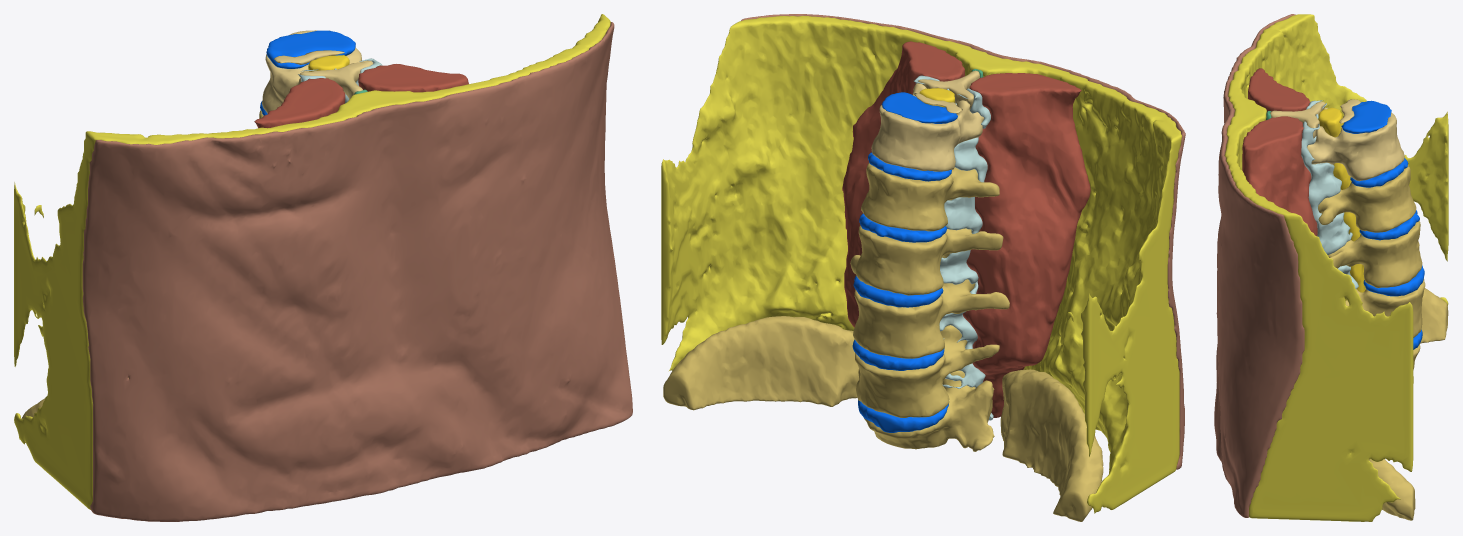
The model's file is LPanatomy2026.glb.
3 views of the same model, side by side, from view 1: azimuth 30°, elevation 25°; view 2: azimuth 150°, elevation 25°; view 3: azimuth 270°, elevation 25° (orthographic). The views are drawn at different scales.
Parts seen in each view (by area): view 1: SkinThin, fat, leftdeepbackmuscle, rightdeepbackmuscle, intervertebral_discs, T12vertebra, T11vertebra; view 2: fat, leftdeepbackmuscle, righthip, lefthip, intervertebral_discs, rightdeepbackmuscle, L3vertebra, L2vertebra, L4vertebra, L1vertebra, T12vertebra, Ligaments (+3 smaller); view 3: fat, SkinThin, rightdeepbackmuscle, T12vertebra, L1vertebra, L2vertebra, intervertebral_discs, Ligaments, leftdeepbackmuscle, spinalcord, L3vertebra, righthip (+2 smaller).
Part boxes in pixels (x1=…): SkinThin: x1=82, y1=22, x2=632, y2=521; fat: x1=14, y1=14, x2=610, y2=509; leftdeepbackmuscle: x1=254, y1=78, x2=345, y2=128; rightdeepbackmuscle: x1=358, y1=64, x2=468, y2=92; intervertebral_discs: x1=260, y1=30, x2=355, y2=115; T12vertebra: x1=262, y1=30, x2=368, y2=113; T11vertebra: x1=274, y1=50, x2=373, y2=98; fat: x1=661, y1=15, x2=1182, y2=513; leftdeepbackmuscle: x1=962, y1=73, x2=1090, y2=417; righthip: x1=663, y1=316, x2=859, y2=410; lefthip: x1=1000, y1=369, x2=1103, y2=521; intervertebral_discs: x1=852, y1=92, x2=957, y2=432; rightdeepbackmuscle: x1=842, y1=41, x2=964, y2=327; L3vertebra: x1=850, y1=255, x2=1009, y2=358; L2vertebra: x1=855, y1=225, x2=1003, y2=295; L4vertebra: x1=855, y1=325, x2=999, y2=417; L1vertebra: x1=861, y1=162, x2=999, y2=231; T12vertebra: x1=871, y1=83, x2=984, y2=171; Ligaments: x1=914, y1=75, x2=993, y2=420; fat: x1=1224, y1=14, x2=1448, y2=521; SkinThin: x1=1214, y1=14, x2=1304, y2=517; rightdeepbackmuscle: x1=1242, y1=116, x2=1317, y2=236; T12vertebra: x1=1307, y1=107, x2=1404, y2=181; L1vertebra: x1=1318, y1=165, x2=1416, y2=232; L2vertebra: x1=1328, y1=221, x2=1422, y2=288; intervertebral_discs: x1=1341, y1=100, x2=1424, y2=349; Ligaments: x1=1301, y1=100, x2=1358, y2=288; leftdeepbackmuscle: x1=1248, y1=68, x2=1310, y2=111; spinalcord: x1=1318, y1=107, x2=1365, y2=292; L3vertebra: x1=1345, y1=278, x2=1425, y2=337; righthip: x1=1369, y1=459, x2=1415, y2=520.
Bounding box in the file's own units: 0.3108 × 0.2158 × 0.1497.
